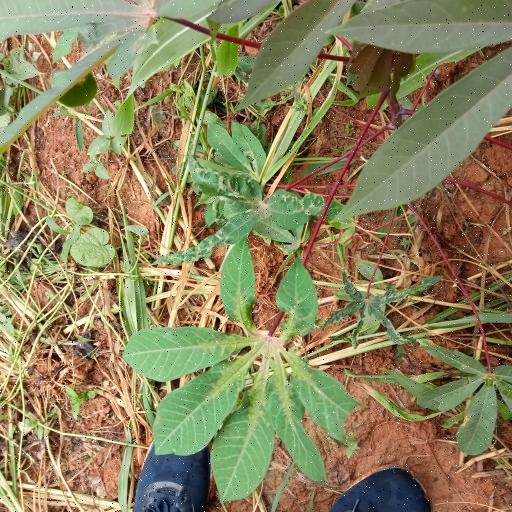Cassava_Mosaic: (132, 249, 366, 496), (424, 342, 512, 452), (206, 168, 318, 254)
